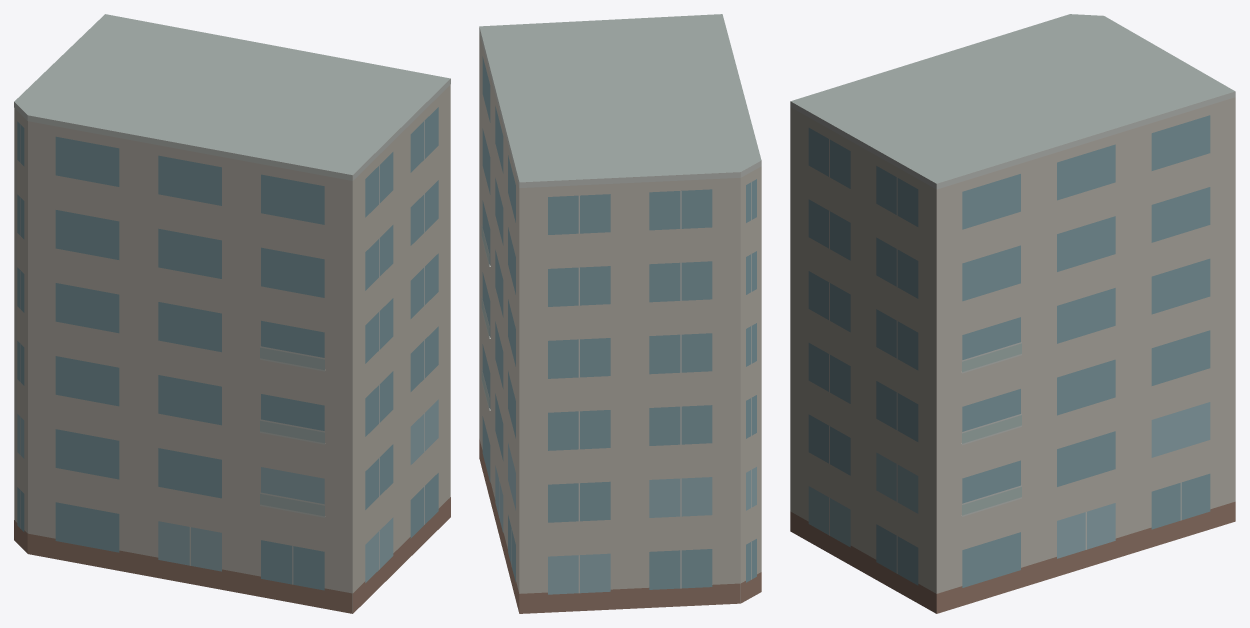
The model's file is survey-upis-32860616.glb.
The picture shows the model from 3 angles, left to right: view 1: azimuth 30°, elevation 25°; view 2: azimuth 150°, elevation 25°; view 3: azimuth 270°, elevation 25°; orthographic projection. The views are drawn at different scales.
Visible parts, largest first — view 1: survey-upis-32860616.tmp; view 2: survey-upis-32860616.tmp; view 3: survey-upis-32860616.tmp.
Part boxes in pixels (box(x1,y1,x2,y2)): survey-upis-32860616.tmp: box(14, 14, 450, 613); survey-upis-32860616.tmp: box(479, 14, 761, 613); survey-upis-32860616.tmp: box(790, 14, 1235, 613).
Bounding box in the file's own units: 15.51 × 18.3 × 17.18.
